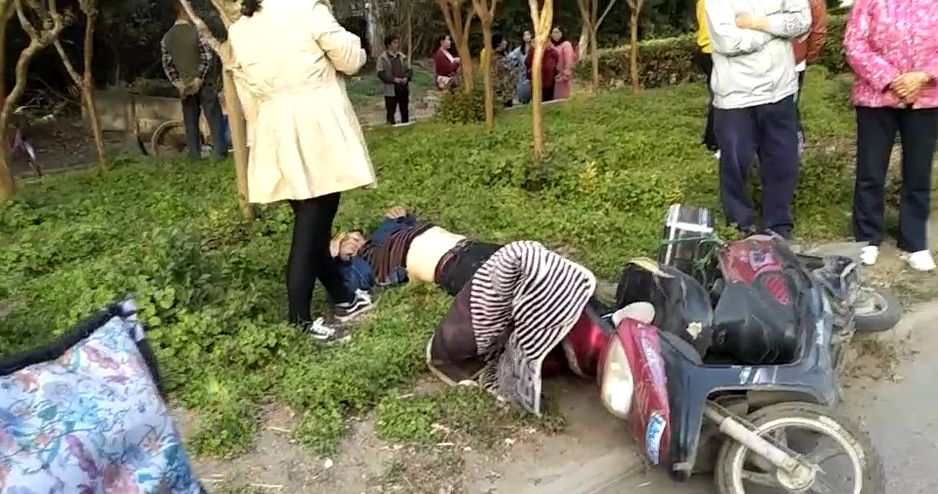10+: (128, 1, 937, 347)
down: (328, 184, 581, 351)
